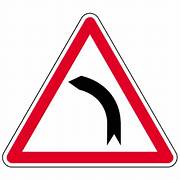left: (3, 14, 177, 169)
